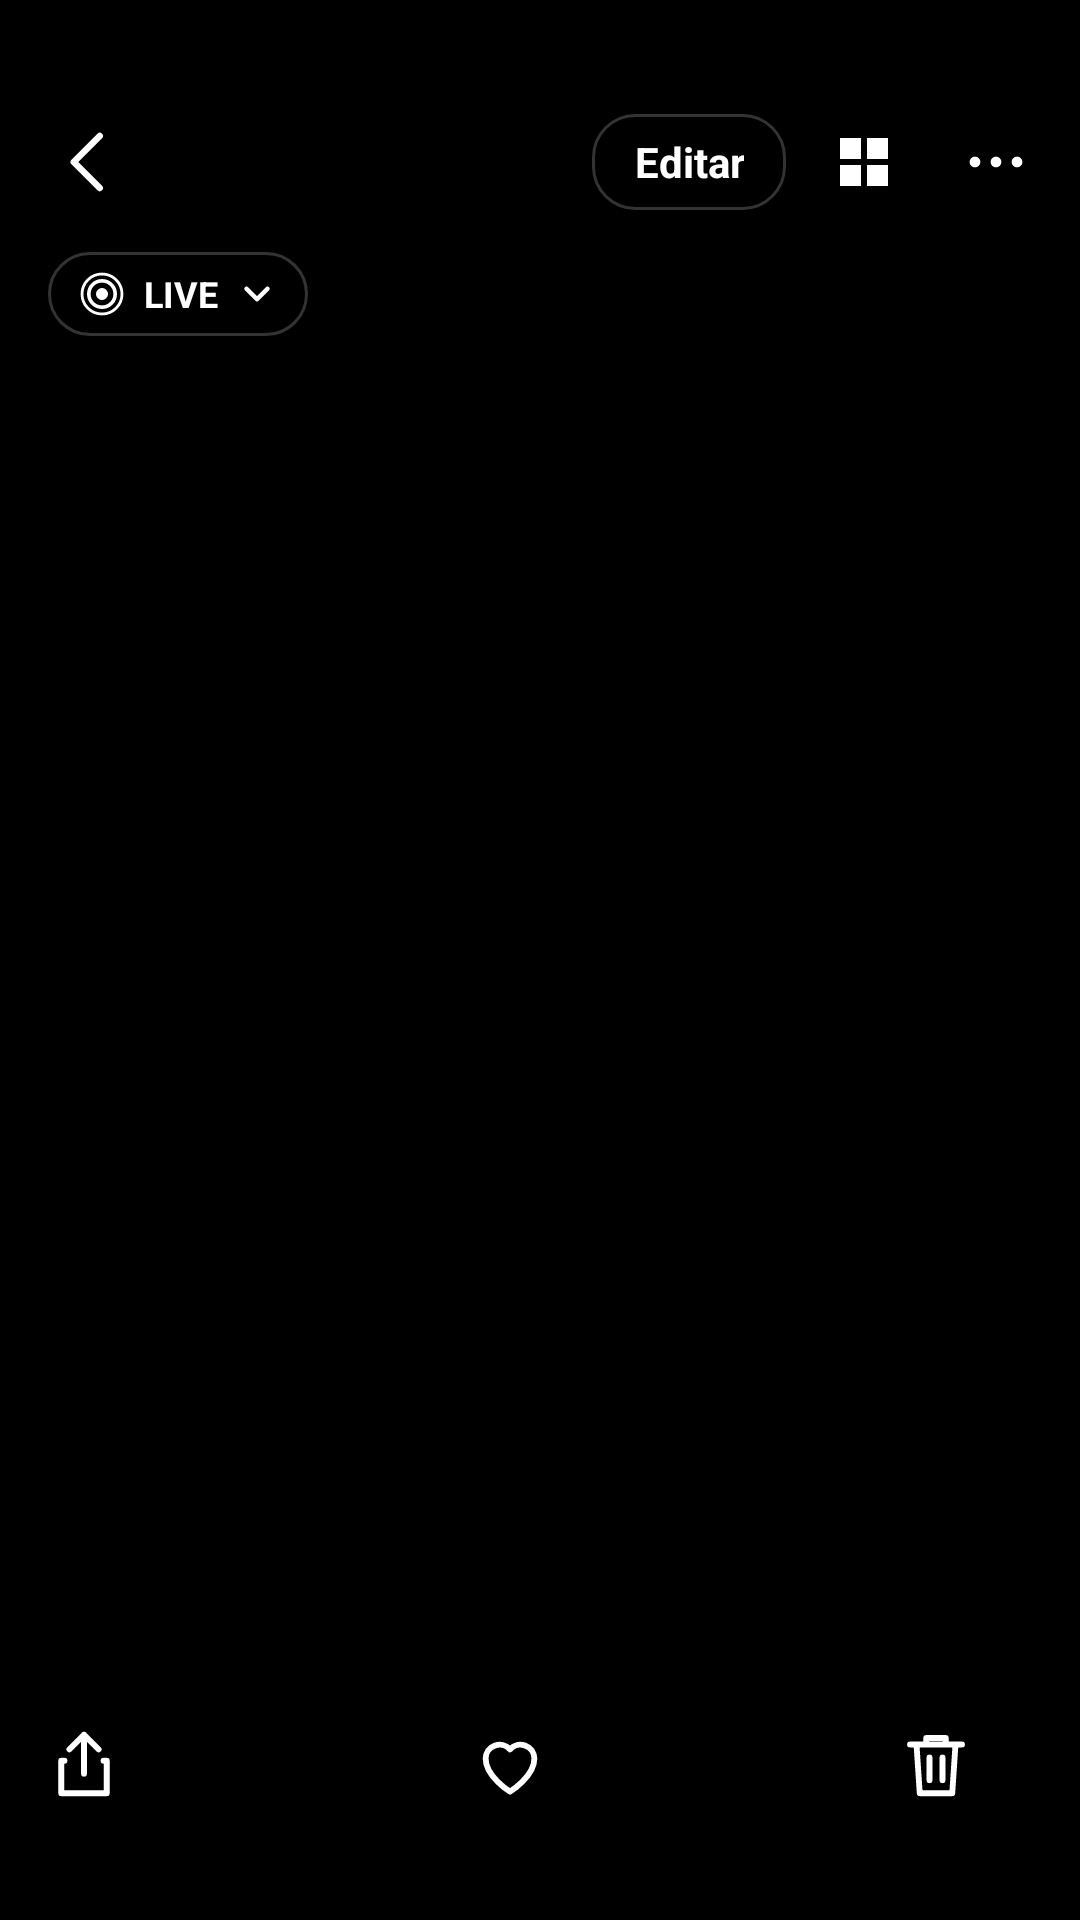

Icons on this 1080w x 1920h Android screen, each with its box as (x1, y1, x2, y2):
Compartir: (58, 1731, 110, 1797)
Eliminar: (907, 1735, 965, 1797)
Favorita: (482, 1741, 538, 1795)
Más opciones: (969, 156, 1023, 168)
Todas las fotos: (840, 138, 888, 186)
Volver: (70, 132, 103, 192)
